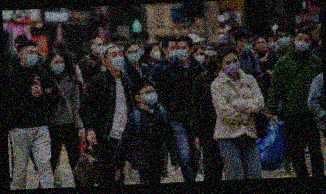with_mask: (106, 49, 126, 69), (223, 56, 241, 77), (141, 86, 159, 106), (23, 48, 40, 66), (294, 34, 311, 51), (175, 43, 190, 61), (204, 54, 219, 72), (276, 31, 292, 47), (51, 57, 66, 74), (126, 47, 140, 64), (193, 49, 206, 65), (114, 40, 127, 53), (242, 38, 254, 52), (167, 42, 177, 58), (93, 41, 106, 53), (151, 47, 162, 59)
without_mask: (254, 40, 268, 51)
